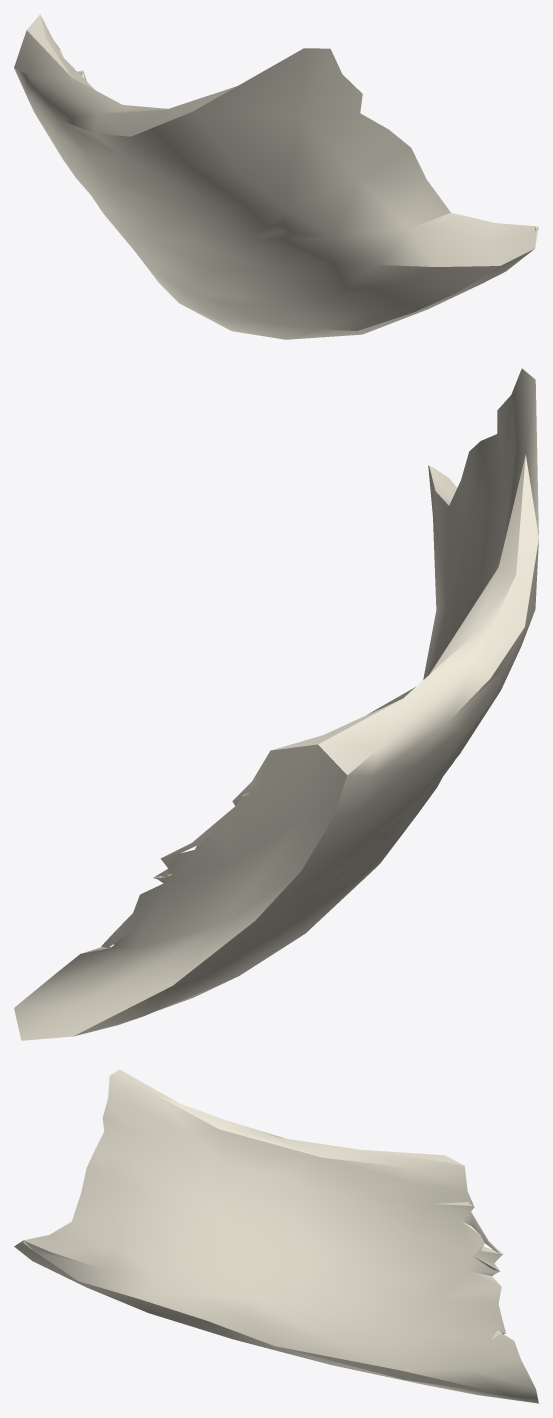
File: fma43520_mm1405.glb
3 views of the same model, one above another, from view 1: azimuth 30°, elevation 25°; view 2: azimuth 150°, elevation 25°; view 3: azimuth 270°, elevation 25° (orthographic). The views are drawn at different scales.
Parts seen in each view (by area): view 1: FMA43520_MM1405; view 2: FMA43520_MM1405; view 3: FMA43520_MM1405.
Boxes of the visible parts, x1,y1,x2,y2 form: FMA43520_MM1405: (14, 14, 538, 339); FMA43520_MM1405: (14, 368, 538, 1040); FMA43520_MM1405: (14, 1069, 538, 1403).
Bounding box in the file's own units: 0.0135 × 0.0214 × 0.0355.
